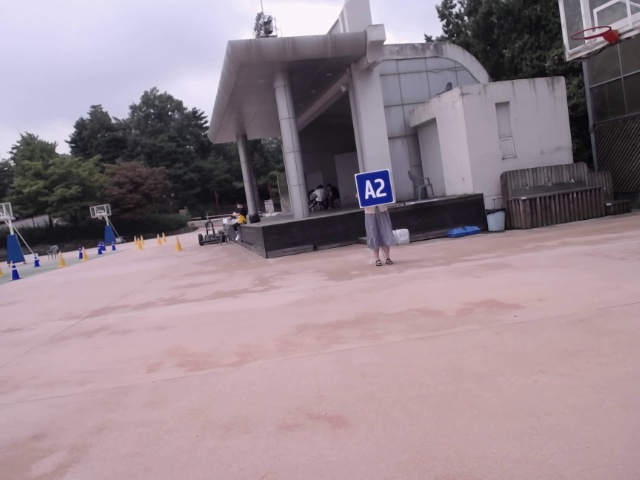delivery_a2: (355, 169, 394, 208)
